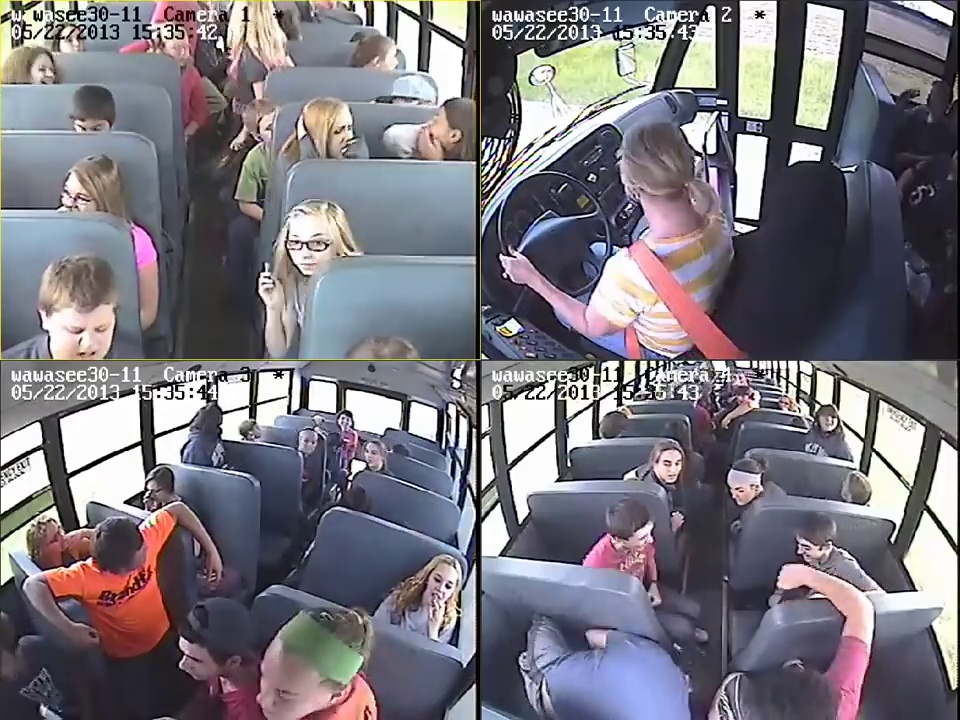face: (56, 310, 109, 359), (287, 219, 331, 276), (179, 638, 211, 679), (59, 173, 90, 212), (326, 113, 355, 153), (423, 568, 454, 605), (24, 54, 56, 86), (793, 533, 820, 566), (40, 526, 66, 558), (656, 449, 682, 481), (729, 477, 751, 508), (141, 477, 165, 505), (300, 430, 320, 455), (365, 443, 380, 471), (821, 409, 837, 428), (336, 413, 352, 430)
